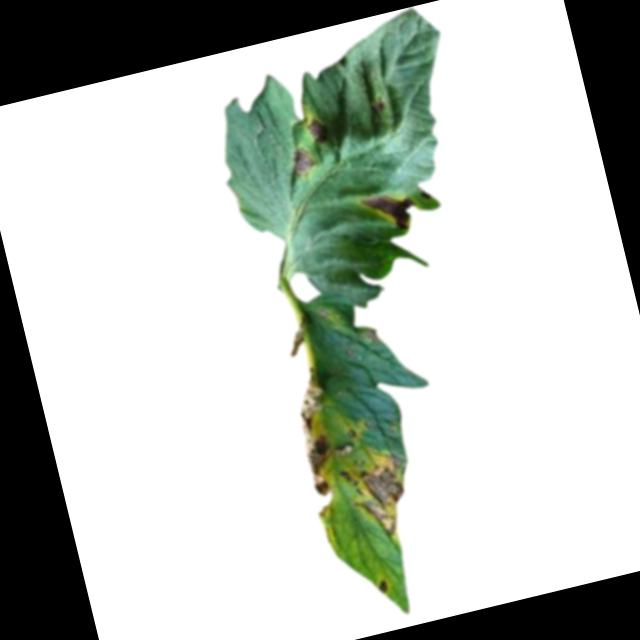Early_blight: (286, 369, 355, 516), (343, 449, 426, 544), (358, 181, 418, 235), (288, 149, 316, 175), (303, 116, 323, 140), (373, 573, 389, 596)
